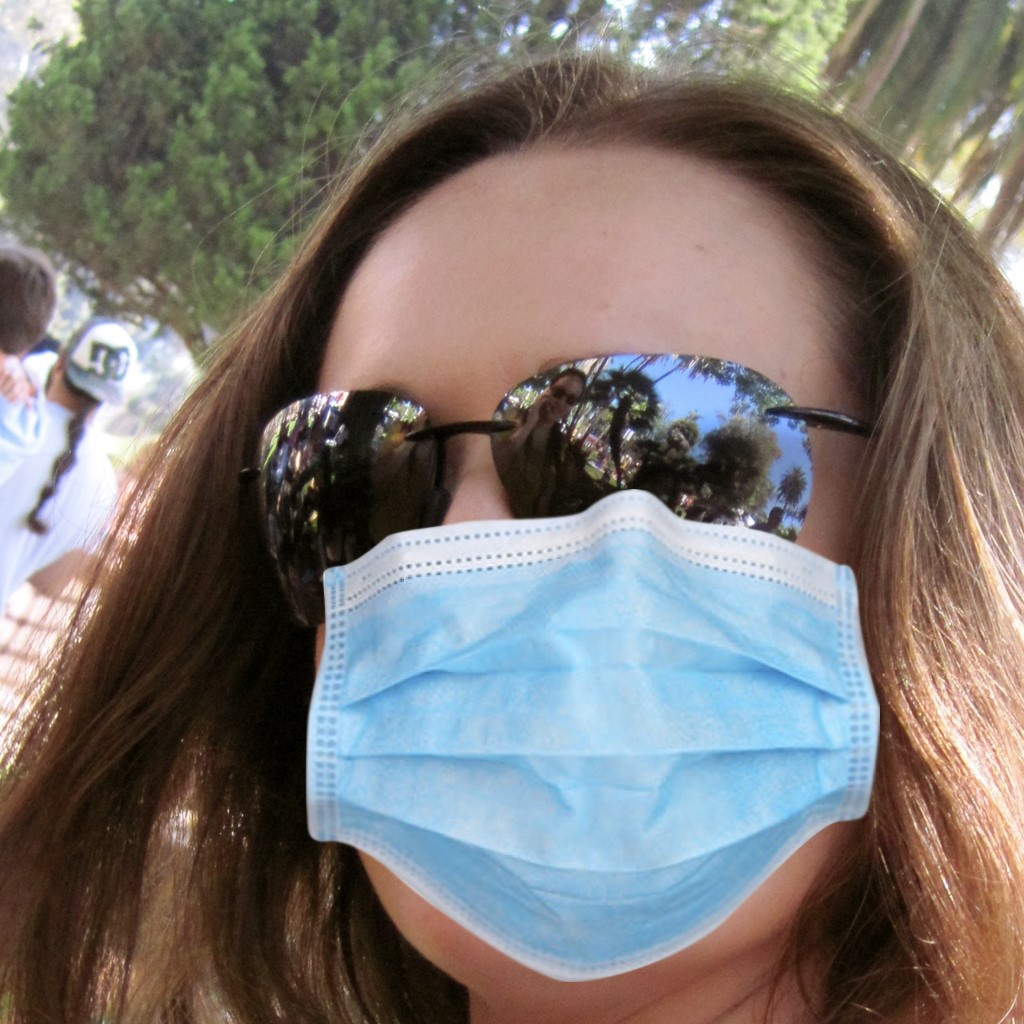con_mascara: (264, 200, 879, 949)
